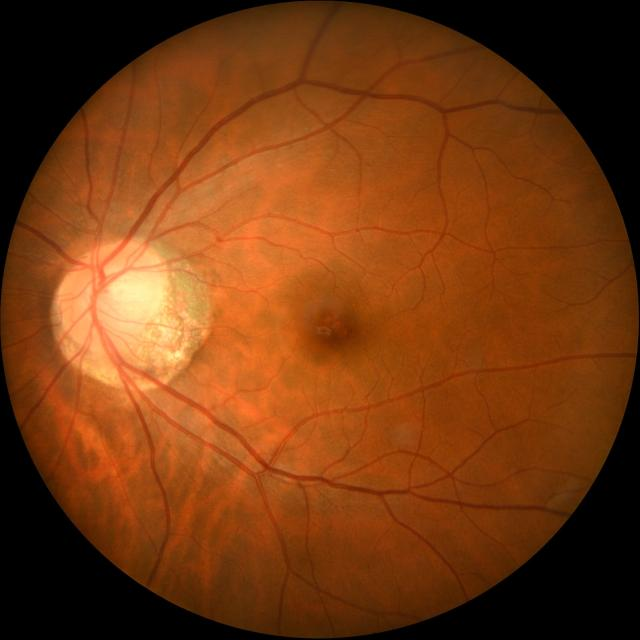OC: (94, 266, 148, 319)
OD: (60, 240, 167, 347)
